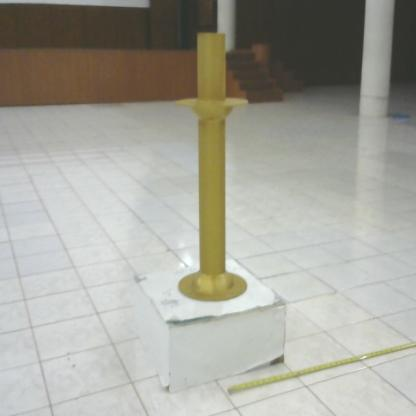pole: (166, 27, 259, 310)
